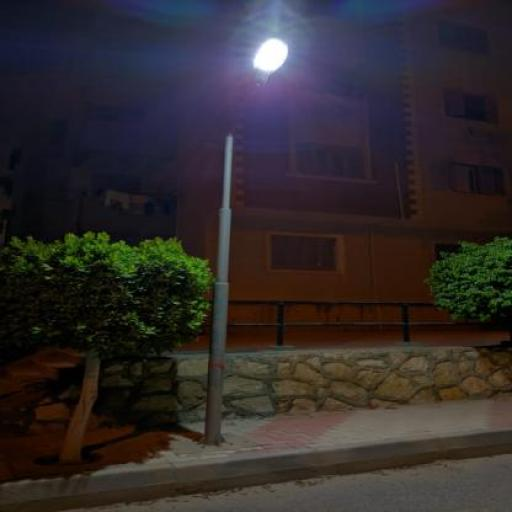street light: (198, 37, 291, 443)
